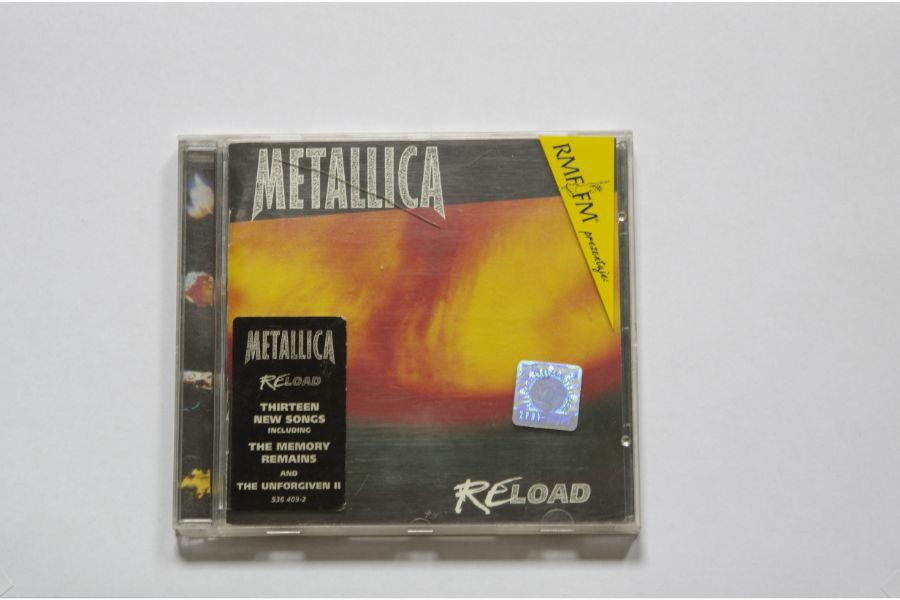album: (172, 133, 644, 539)
